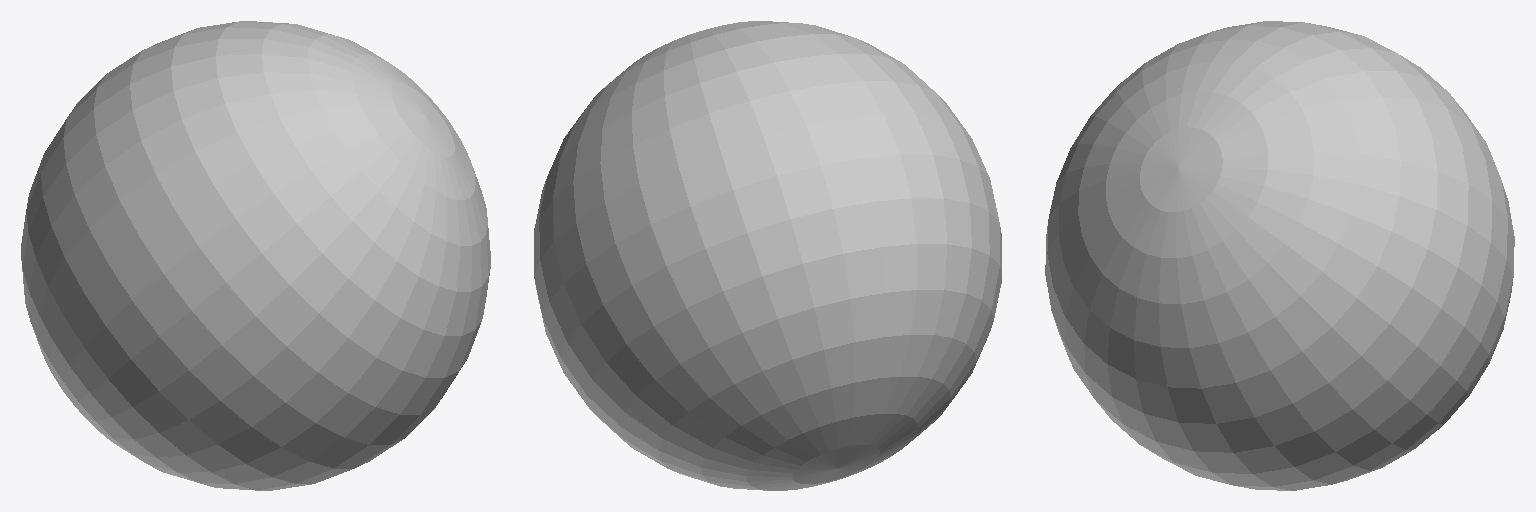
File: planet.obj
3 views of the same model, side by side, from view 1: azimuth 30°, elevation 25°; view 2: azimuth 150°, elevation 25°; view 3: azimuth 270°, elevation 25° (orthographic).
Parts seen in each view (by area): view 1: Sphere; view 2: Sphere; view 3: Sphere.
Boxes of the visible parts, x1,y1,x2,y2 form: Sphere: [21, 21, 490, 490]; Sphere: [534, 21, 1001, 490]; Sphere: [1045, 21, 1514, 490].
Bounding box in the file's own units: 1.99 × 2 × 1.99.